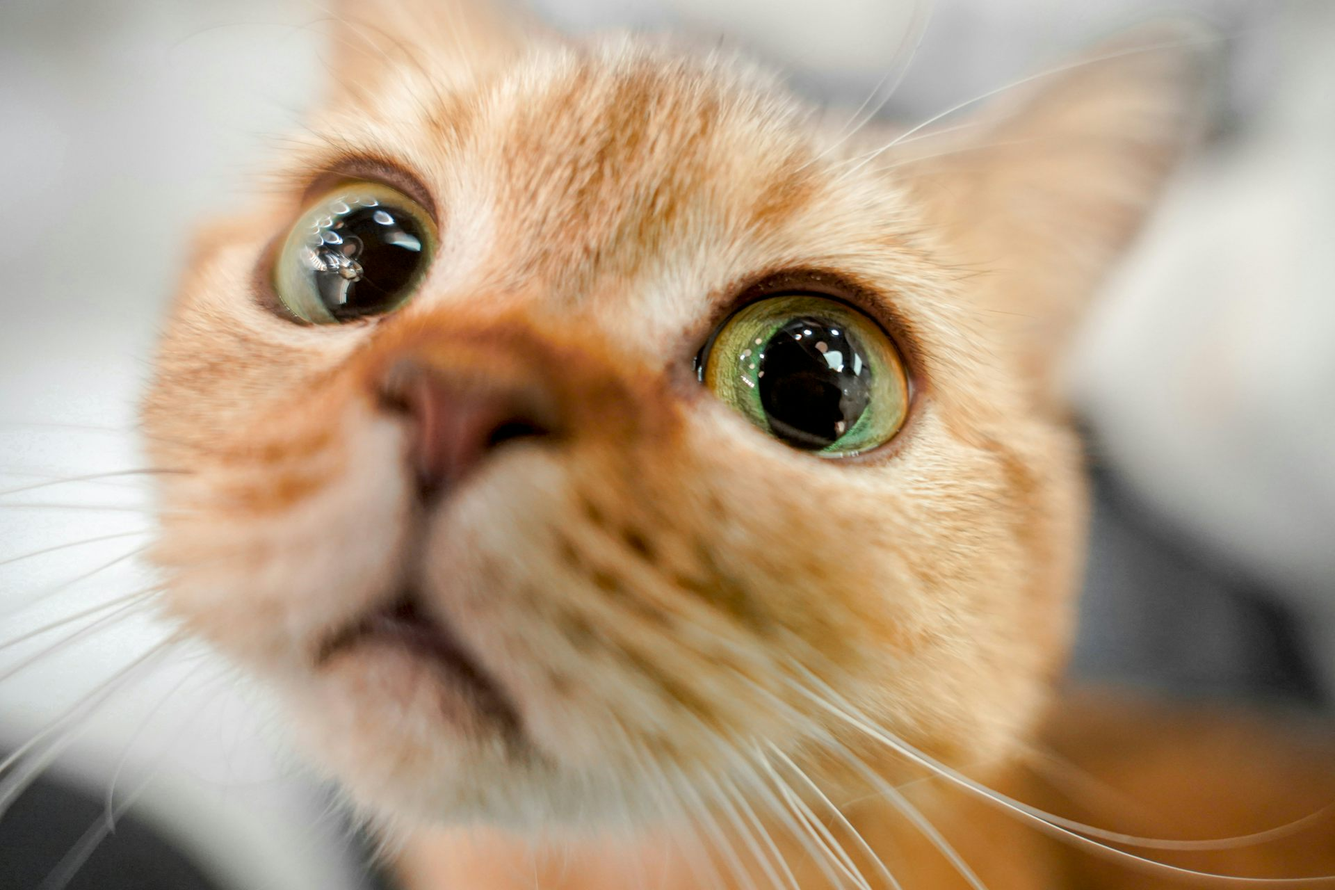Cat: (108, 9, 1265, 849)
